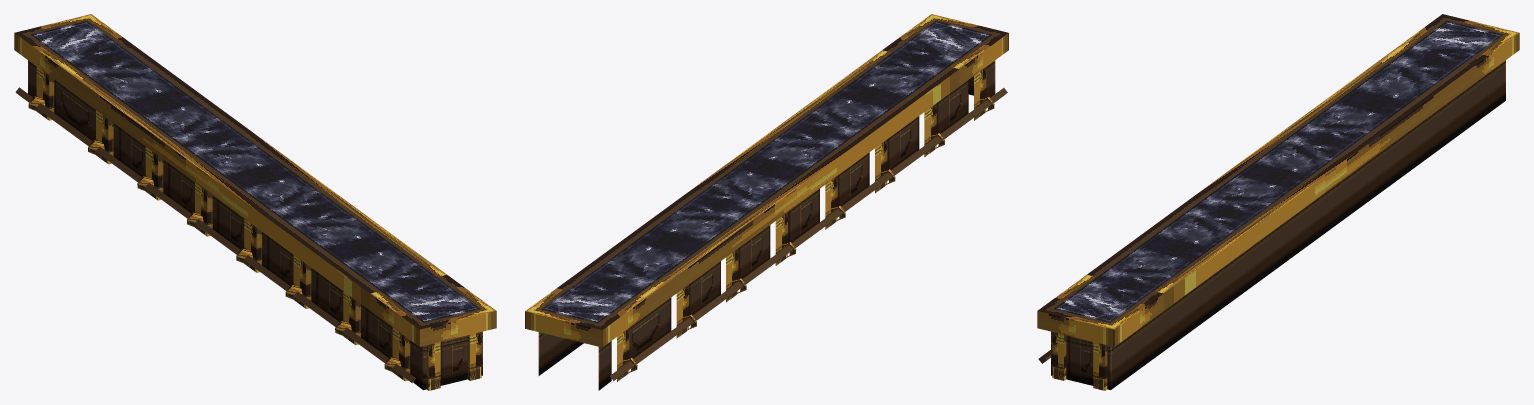
3 views of the same model, side by side, from view 1: azimuth 30°, elevation 25°; view 2: azimuth 150°, elevation 25°; view 3: azimuth 330°, elevation 25° (orthographic).
Parts seen in each view (by area): view 1: sh_l02_c06; view 2: sh_l02_c06; view 3: sh_l02_c06.
Part boxes in pixels (x1,y1,x2,y2): sh_l02_c06: (14, 14, 496, 390); sh_l02_c06: (525, 14, 1008, 390); sh_l02_c06: (1037, 14, 1519, 390).
Size of the model in its own units: 0.5098 by 0.3716 by 4.1.
3 materials, 3 textured.
